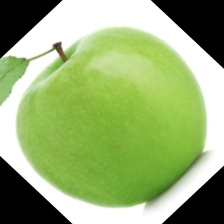apple: (25, 0, 206, 186)
